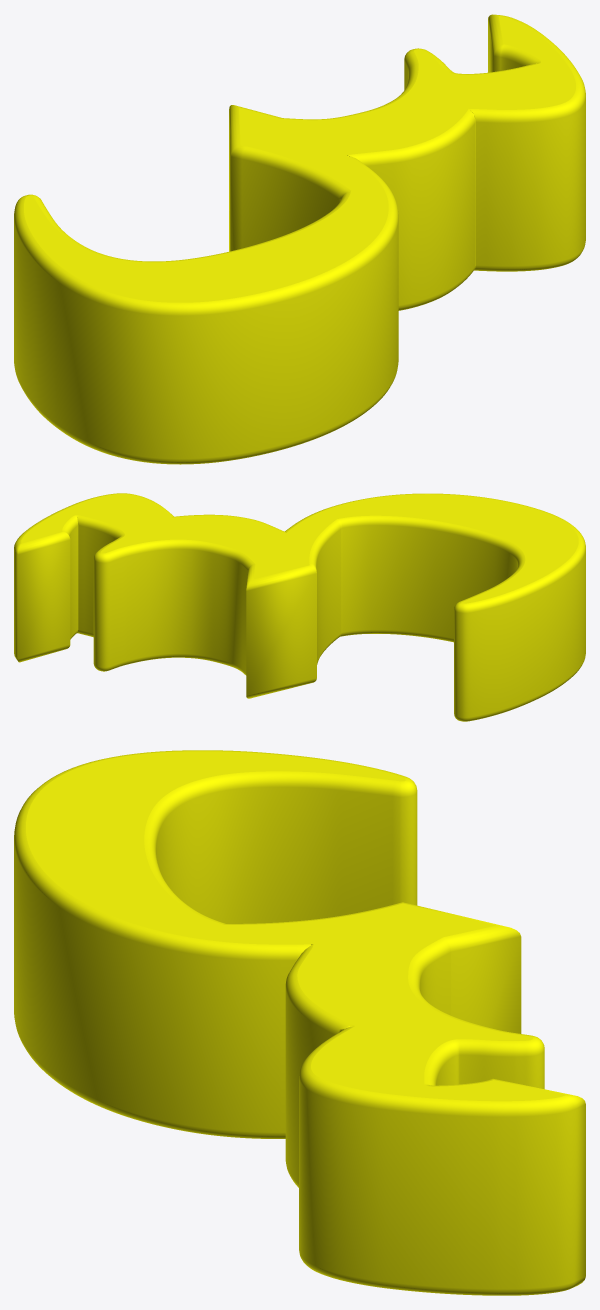
The picture shows the model from 3 angles, top to bottom: view 1: azimuth 30°, elevation 25°; view 2: azimuth 150°, elevation 25°; view 3: azimuth 270°, elevation 25°; orthographic projection. The views are drawn at different scales.
Visible parts, largest first — view 1: Text.144; view 2: Text.144; view 3: Text.144.
Boxes of the visible parts, x1,y1,x2,y2 form: Text.144: (14, 14, 585, 464); Text.144: (14, 493, 585, 721); Text.144: (14, 750, 585, 1295).
Size of the model in its own units: 71.83 by 18 by 48.23.
